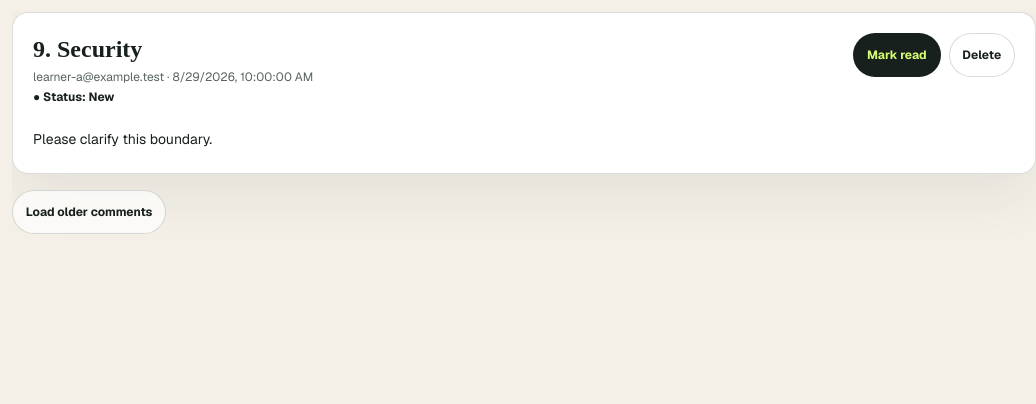
Scenario: owner comment review › updates, paginates, deduplicates stale results, and deletes
Click the button "Mark read".
click(897, 55)  # box [853, 33, 940, 77]
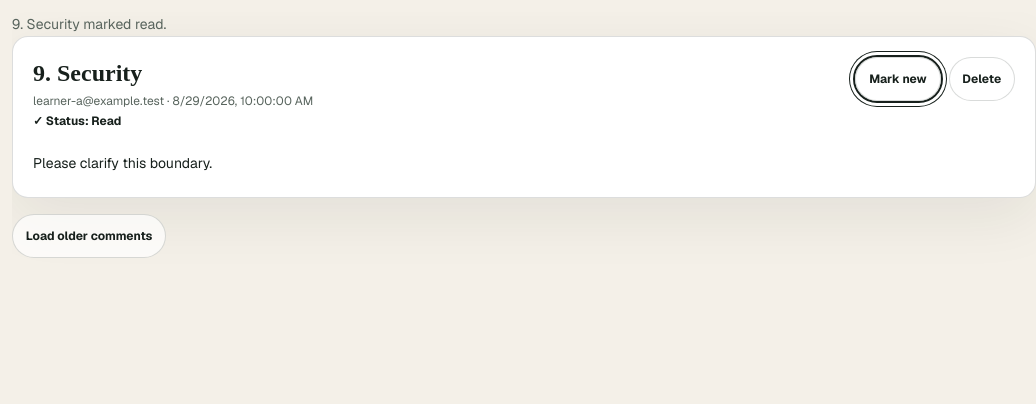
Expected: the text "Status: Read" is shown, [33, 113, 121, 129]
Click the button "Mark new".
click(898, 79)  # box [855, 57, 940, 101]
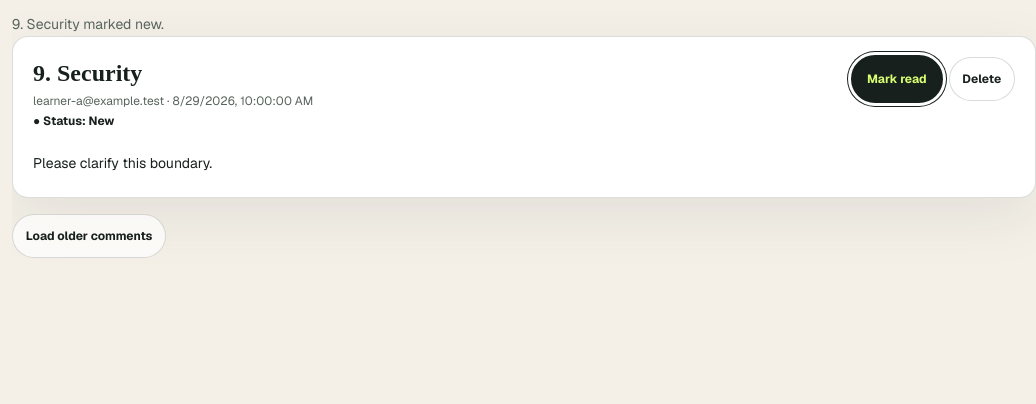
Expected: the text "Status: New" is shown, [33, 113, 114, 129]
Click the button "Load older comments".
click(89, 236)  # box [12, 214, 166, 258]
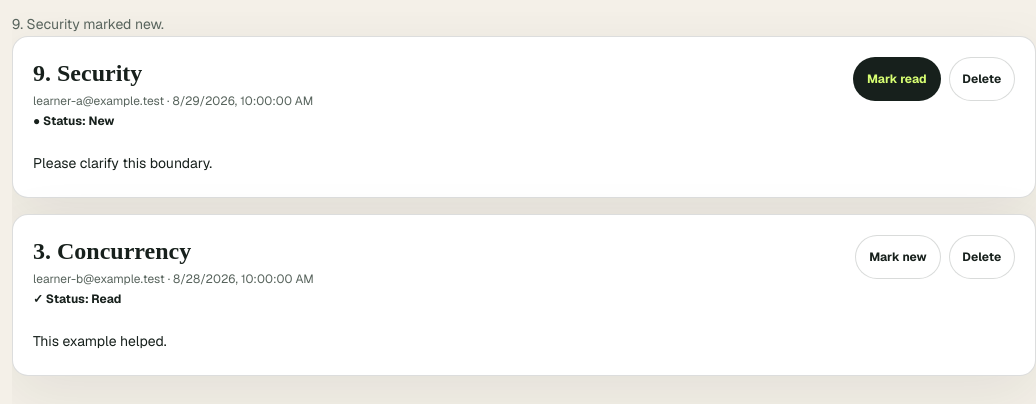
Expected: the text "Please clarify this boundary." is shown once, [33, 154, 212, 172]
Expected: the text "This example helped." is shown, [33, 332, 166, 350]
Click the button "Delete" in the row of "8/29/2026, 10:00:00 AM".
click(982, 79)  # box [948, 57, 1015, 101]
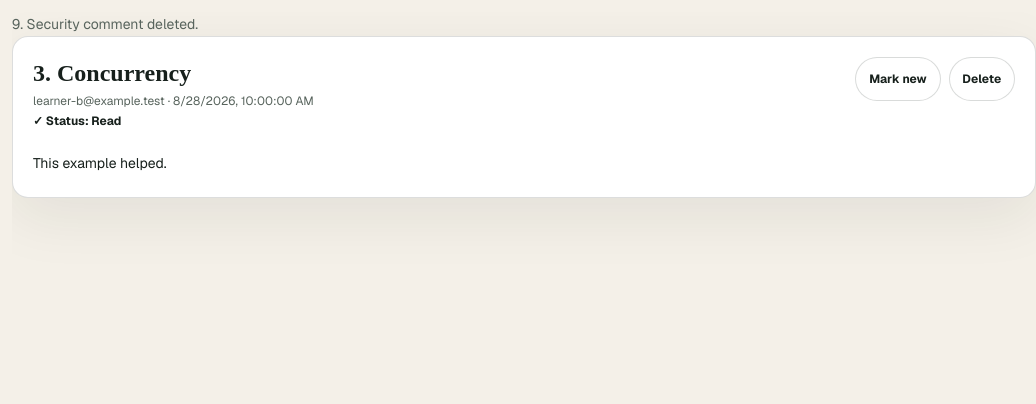
Expected: the text "Please clarify this boundary." is gone
